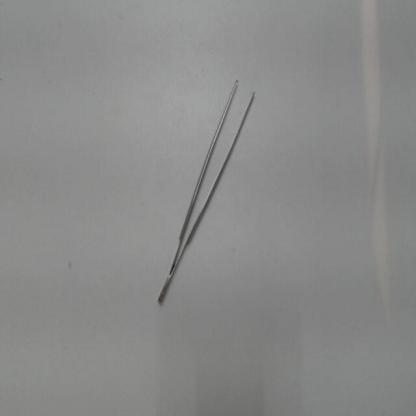Gillies Toothed Dissector: (153, 70, 268, 311)
